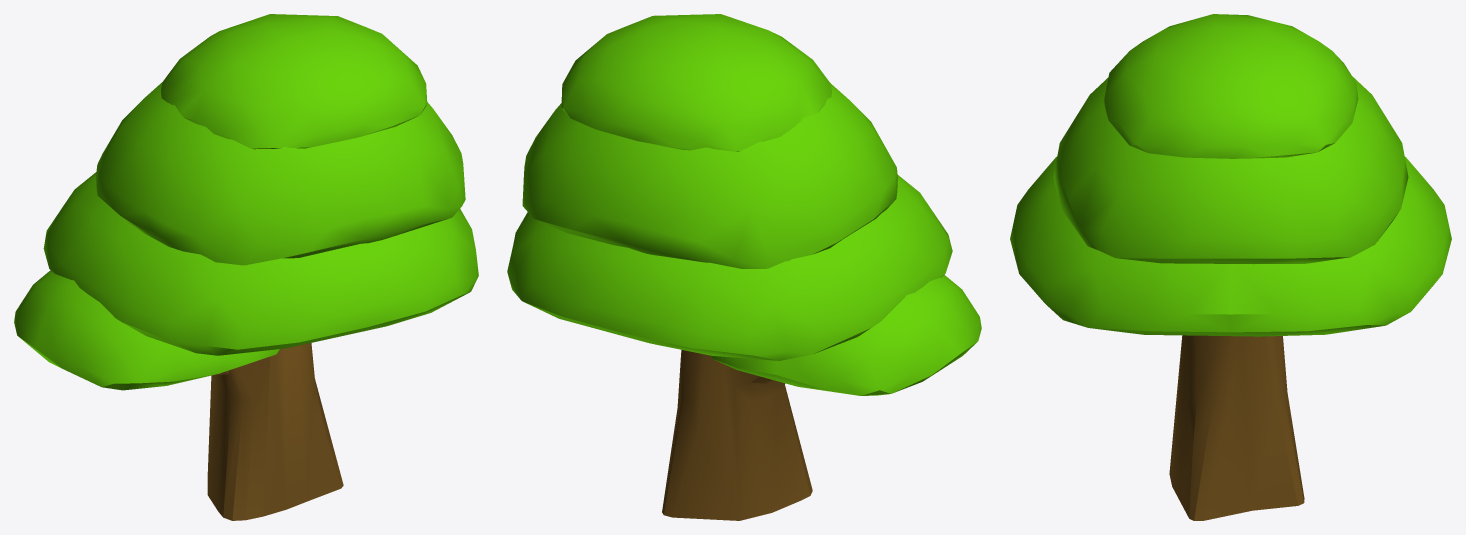
File: Ağaç.fbx
The picture shows the model from 3 angles, left to right: view 1: azimuth 30°, elevation 25°; view 2: azimuth 150°, elevation 25°; view 3: azimuth 270°, elevation 25°; orthographic projection. The views are drawn at different scales.
Visible parts, largest first — view 1: Cube.001; view 2: Cube.001; view 3: Cube.001.
Part boxes in pixels (bbox=[...]): Cube.001: bbox=[14, 14, 478, 520]; Cube.001: bbox=[507, 14, 981, 520]; Cube.001: bbox=[1010, 14, 1451, 520].
Size of the model in its own units: 194 by 204 by 173.
